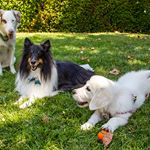puppy: (70, 73, 124, 135), (13, 37, 56, 112), (1, 2, 22, 76)
